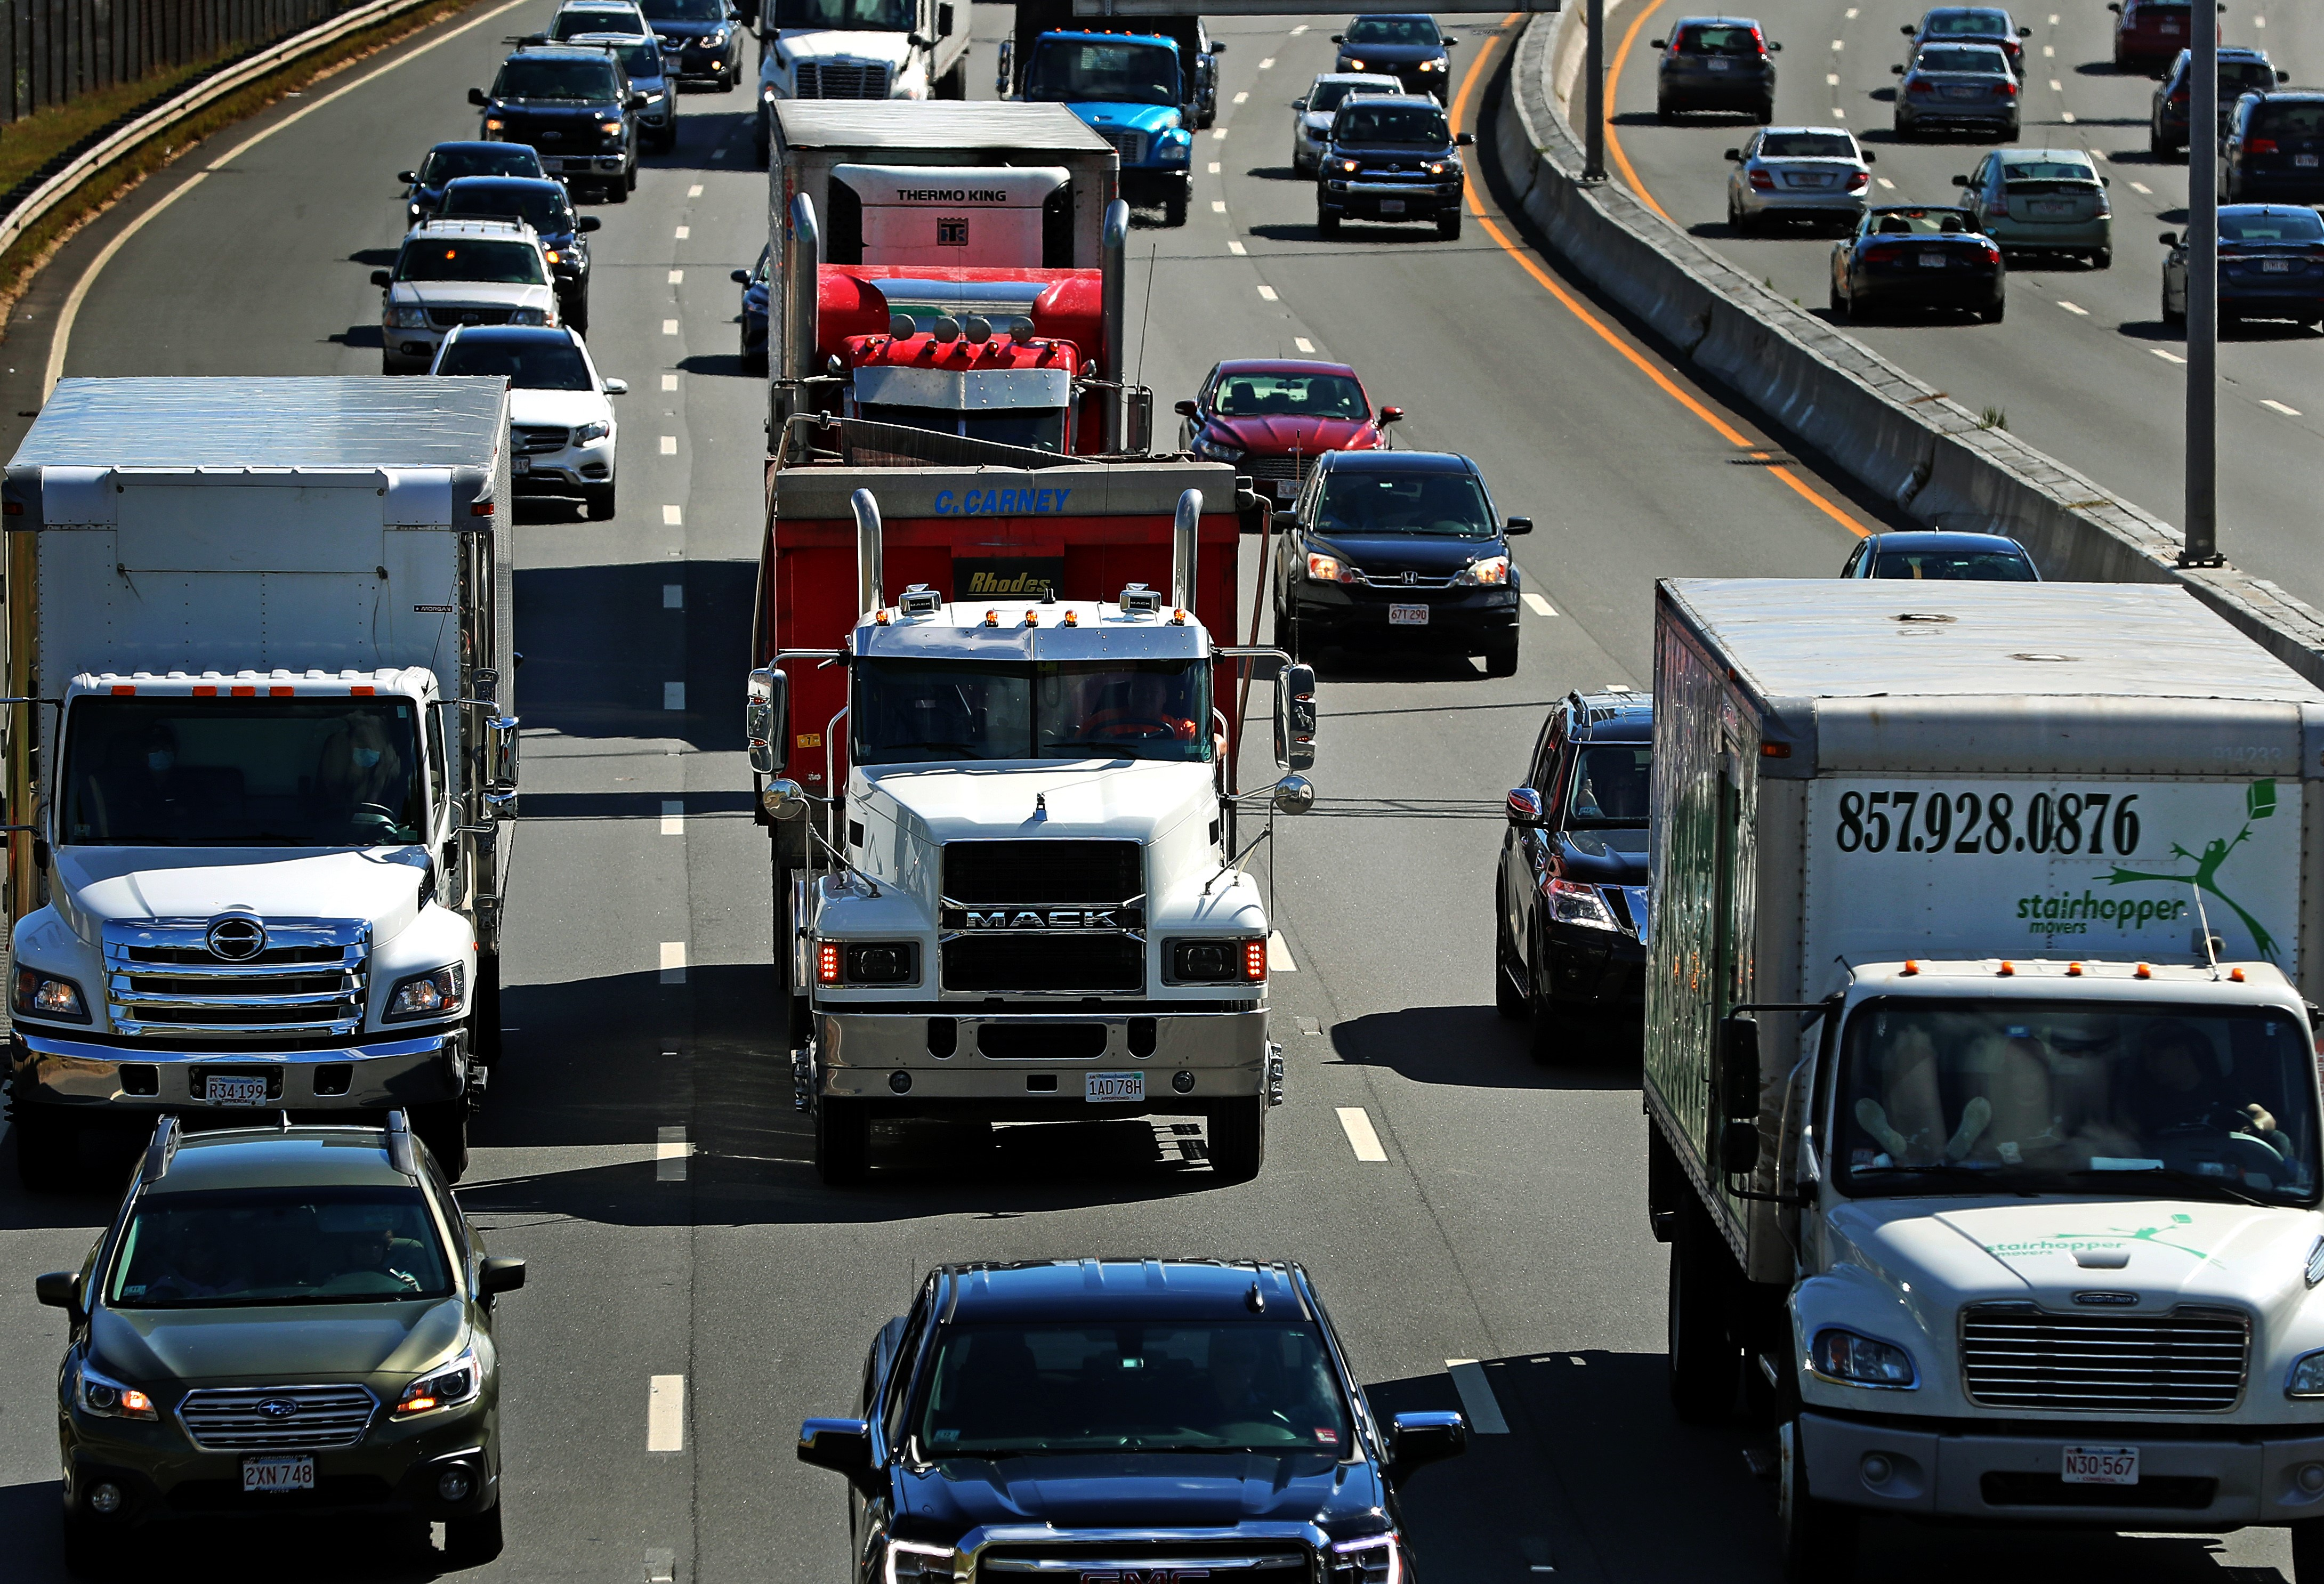HeavyVehicle: (1642, 572, 2324, 1572), (768, 263, 1298, 1187), (0, 369, 521, 1116)
